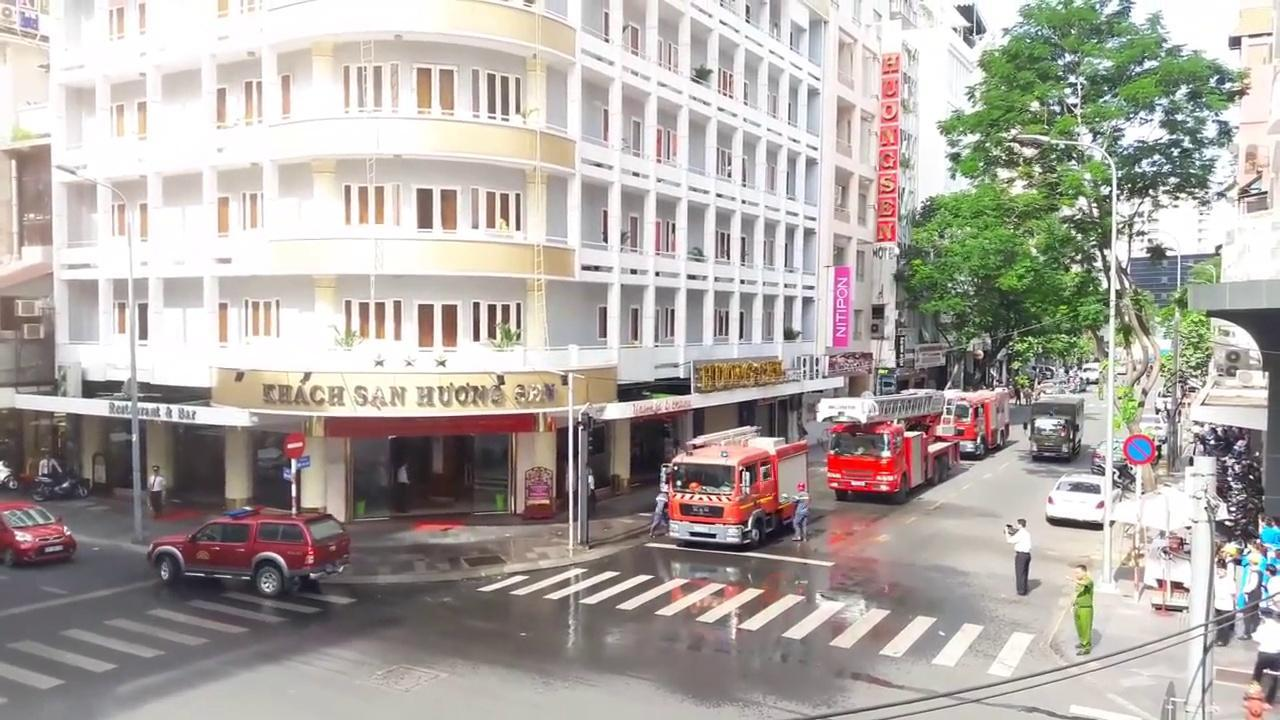xe cuu hoa: (668, 425, 807, 546), (816, 389, 959, 504)
xe hoi: (144, 505, 348, 598), (0, 497, 74, 565), (1044, 471, 1105, 520)
